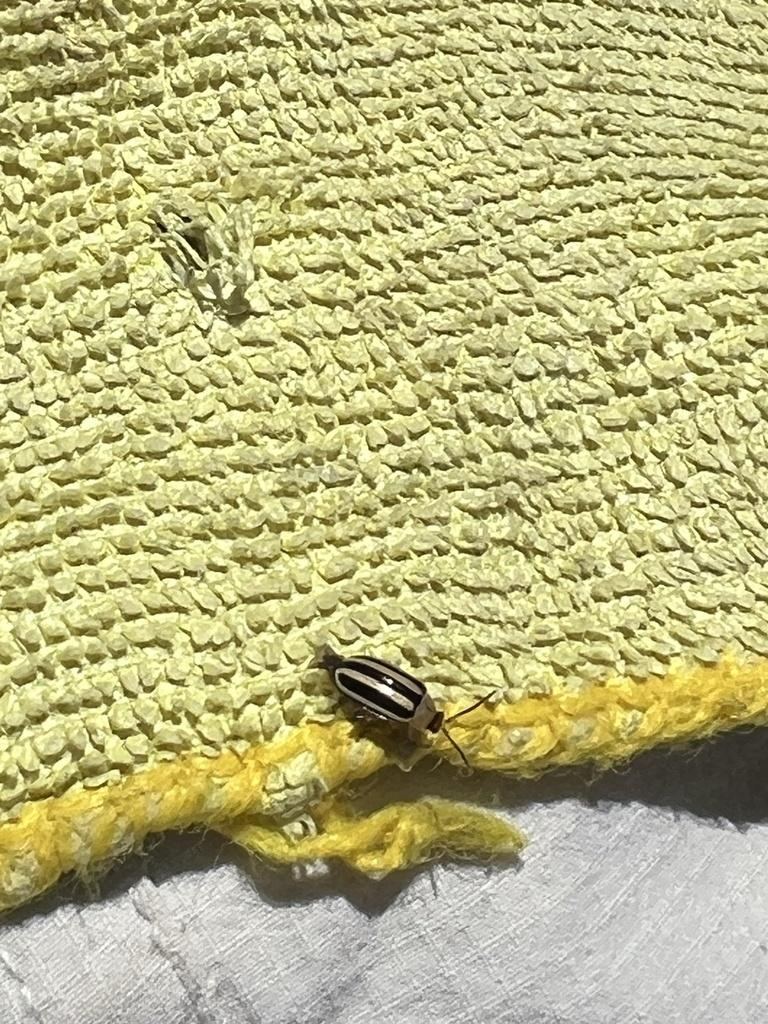potato_beetle: (289, 601, 521, 811)
